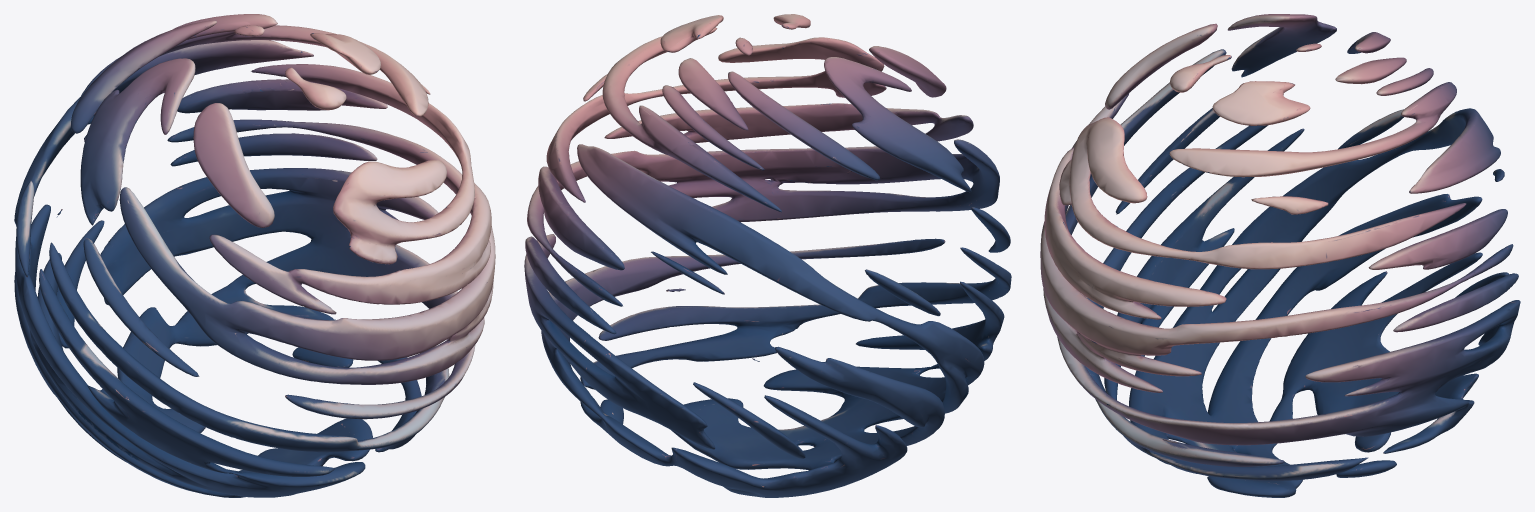
File: cloud.glb
3 renders of one model, left to right at view 1: azimuth 30°, elevation 25°; view 2: azimuth 150°, elevation 25°; view 3: azimuth 270°, elevation 25°, orthographic.
Parts seen in each view (by area): view 1: Clouds; view 2: Clouds; view 3: Clouds.
Part boxes in pixels (x1,y1,x2,y2): Clouds: (14, 14, 495, 497); Clouds: (524, 14, 1011, 497); Clouds: (1040, 14, 1520, 497).
Bounding box in the file's own units: 1.75 × 1.73 × 1.74.
Materials: 1 (1 with a texture image).
